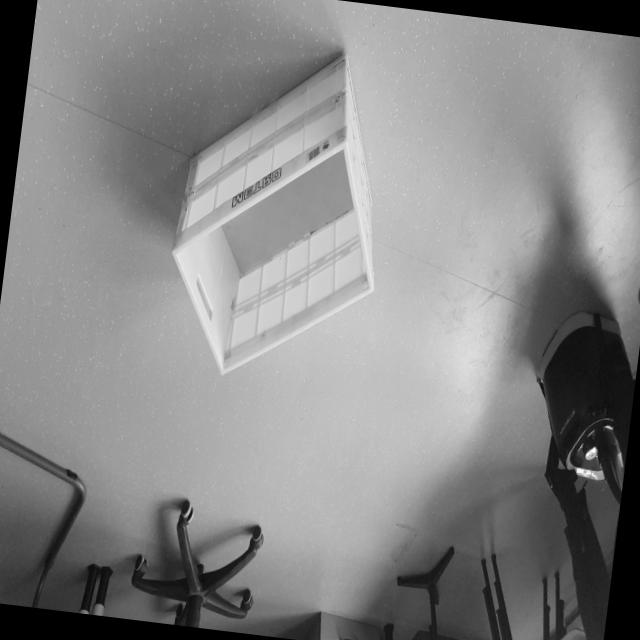box: (151, 16, 404, 402)
